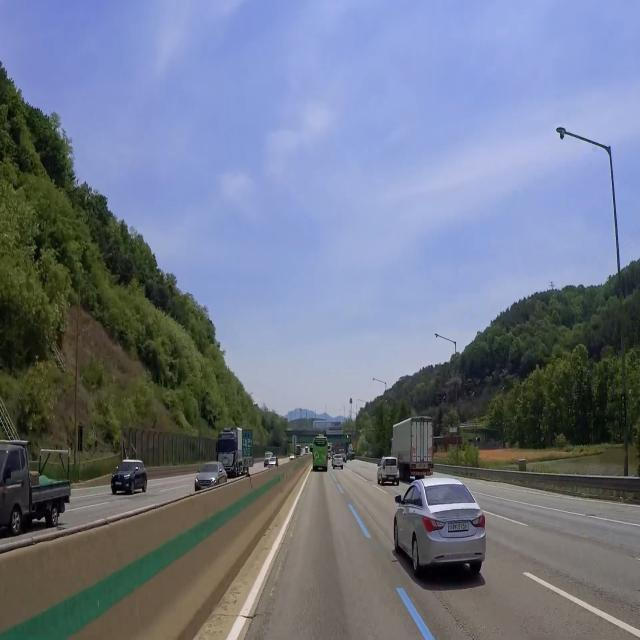car: (446, 516, 471, 534), (386, 475, 398, 484)
